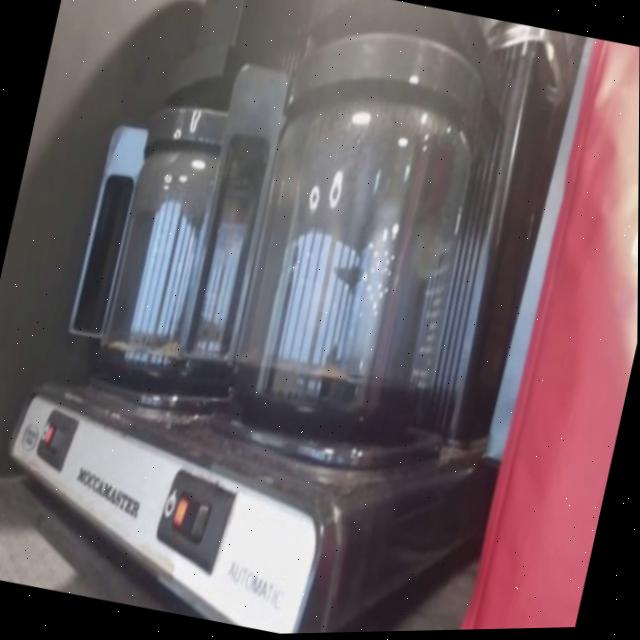coffee: (217, 124, 480, 462)
nocoffee: (94, 146, 264, 405)
